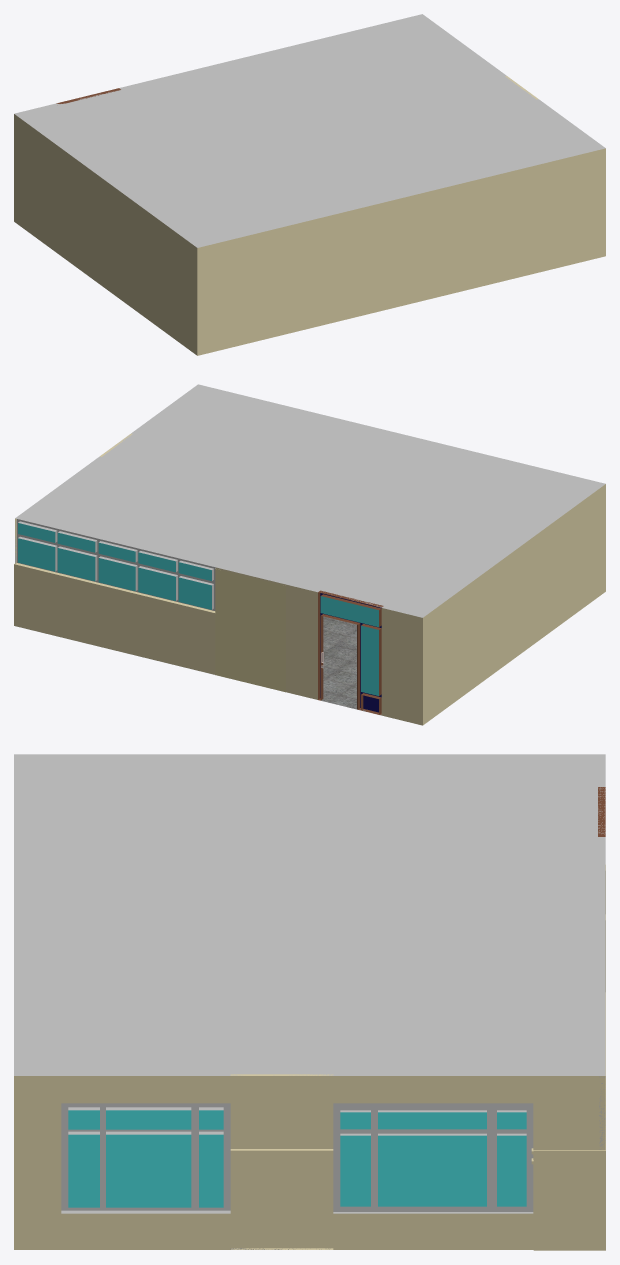
The model's file is nuevo lugar bien hecho (Posta) 1.fbx.
3 views of the same model, one above another, from view 1: azimuth 30°, elevation 25°; view 2: azimuth 150°, elevation 25°; view 3: azimuth 270°, elevation 25° (orthographic). The views are drawn at different scales.
Visible parts, largest first — view 1: tECHO, Paredes, Ventana; view 2: tECHO, Paredes, Cube.003, Lugar de puerta, Ventana, Cube.002, Piso; view 3: tECHO, Paredes, VentanaGrande, Cube.003, Ventana.
Boxes of the visible parts, bbox=[...] form: tECHO: bbox=[14, 14, 605, 247]; Paredes: bbox=[14, 76, 605, 355]; Ventana: bbox=[222, 14, 424, 64]; tECHO: bbox=[16, 384, 605, 617]; Paredes: bbox=[15, 433, 605, 725]; Cube.003: bbox=[14, 563, 215, 674]; Lugar de puerta: bbox=[285, 584, 422, 725]; Ventana: bbox=[15, 517, 217, 610]; Cube.002: bbox=[215, 568, 285, 692]; Piso: bbox=[321, 616, 381, 715]; tECHO: bbox=[14, 754, 605, 1075]; Paredes: bbox=[14, 1074, 605, 1249]; VentanaGrande: bbox=[61, 1103, 533, 1213]; Cube.003: bbox=[533, 992, 605, 1250]; Ventana: bbox=[599, 917, 605, 1149].
Bounding box in the file's own units: 6706 × 1690 × 5198.
